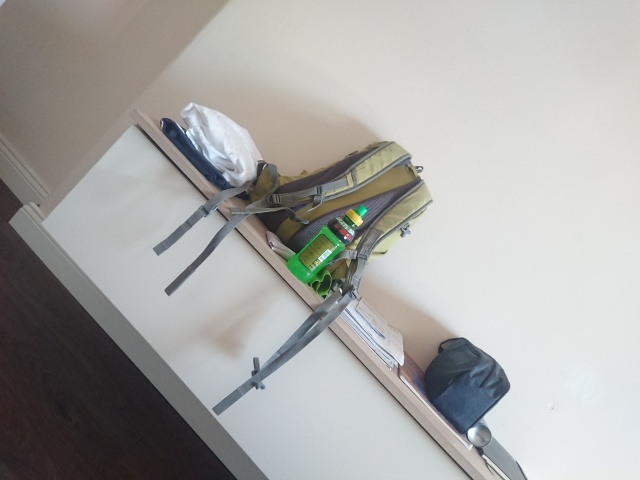Vindi Iso Sport Lemon-Grapefruit 500mL: (284, 202, 370, 285)
